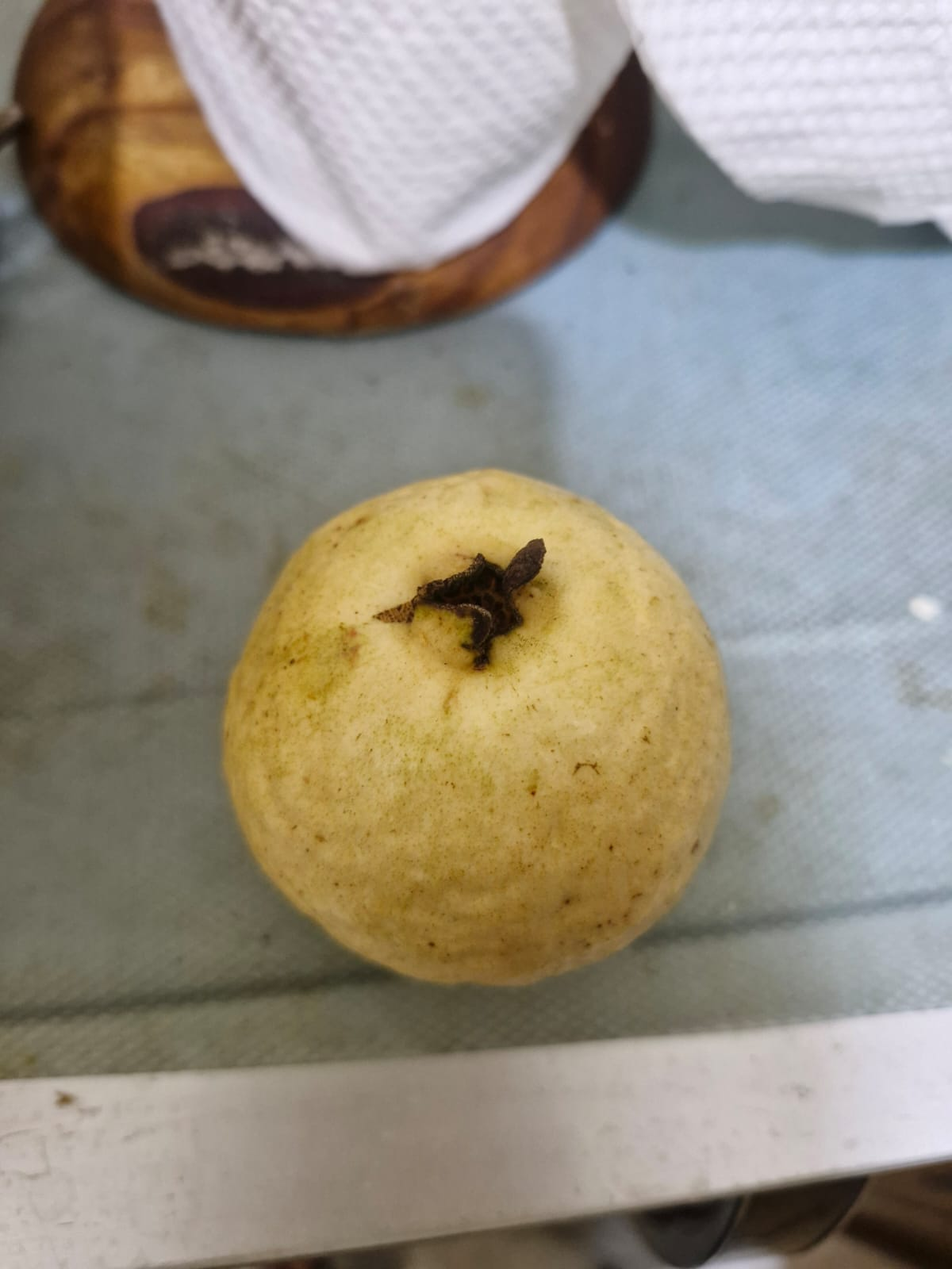guava: (217, 85, 828, 999)
